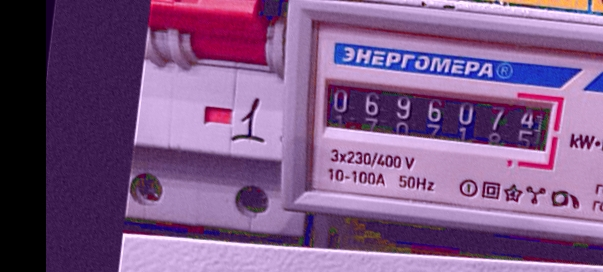0: (331, 87, 353, 114), (457, 99, 477, 127)
4: (520, 106, 538, 130)
5: (517, 129, 535, 150)
6: (426, 96, 447, 125), (363, 90, 384, 117)
7: (489, 104, 508, 132)
9: (395, 93, 414, 121)
screen: (309, 65, 570, 175)
